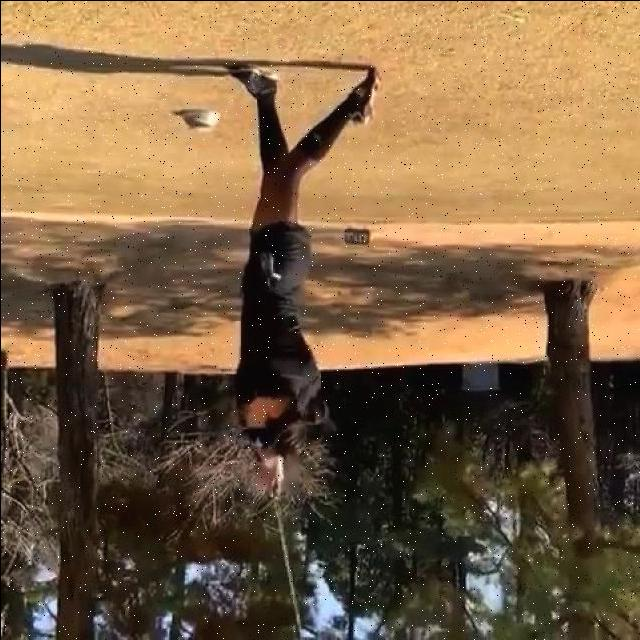golf club-handle: (273, 495, 316, 637)
golf club-head: (298, 623, 316, 637)
